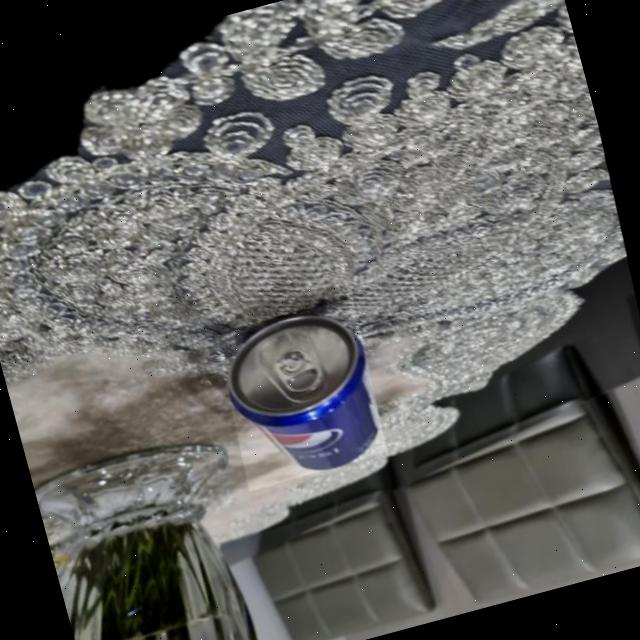trash: (216, 293, 403, 493)
